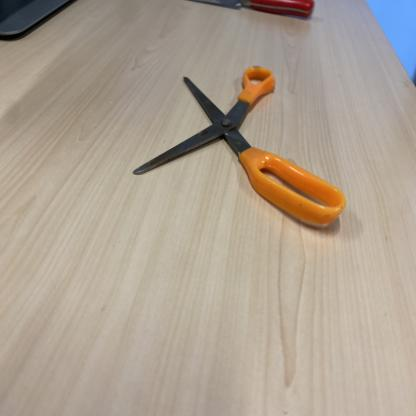Knife: (156, 0, 316, 25)
scissors: (132, 58, 347, 234)
